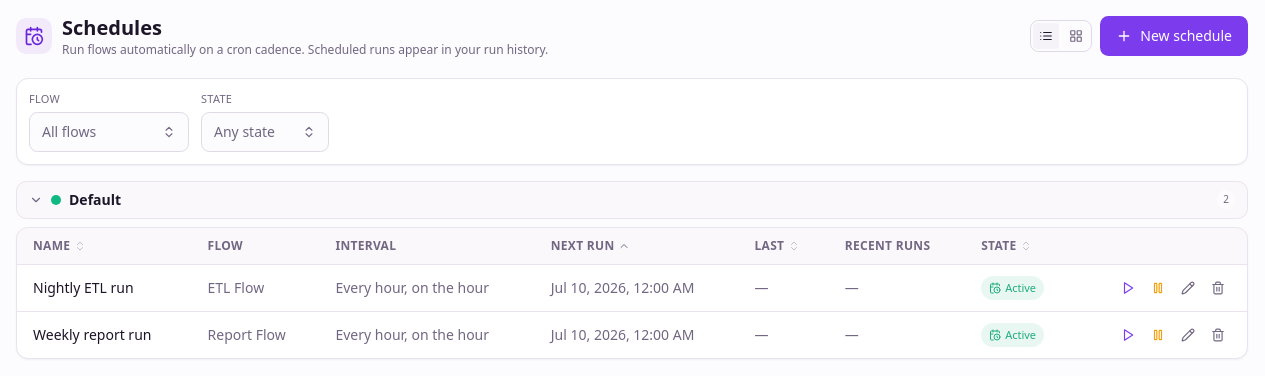
SchedulesPage run-now action › ignores a second click on the same schedule while its own run-now request is still pending
The width and height of the screenshot is (1265, 376).
Expected: the text "Nightly ETL run" is shown, [17, 264, 192, 311]
Click the button titled "Run now" in the row of "Nightly ETL run".
click(1128, 288)  # box [1115, 274, 1141, 300]
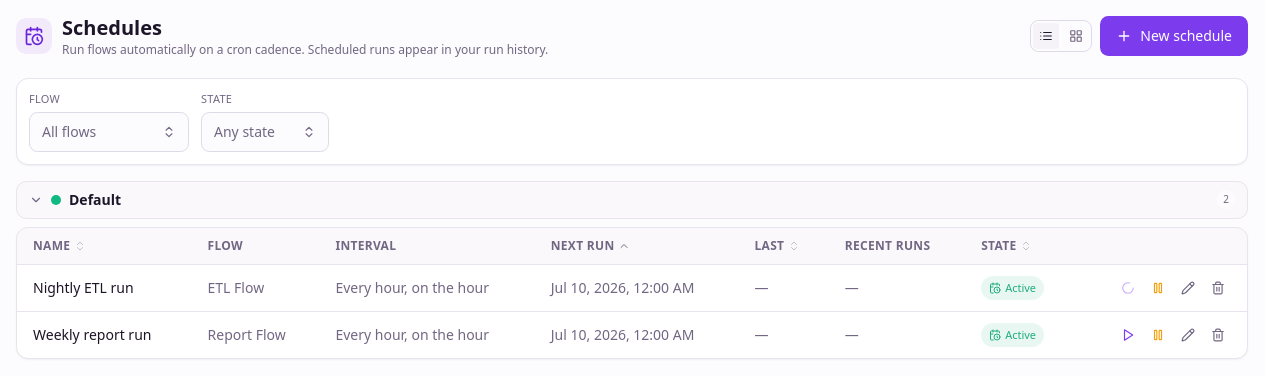
Now the button titled "Run now" in the row of "Nightly ETL run" is disabled
Click the button titled "Run now" in the row of "Nightly ETL run".
click(1128, 288)  # box [1115, 274, 1141, 300]
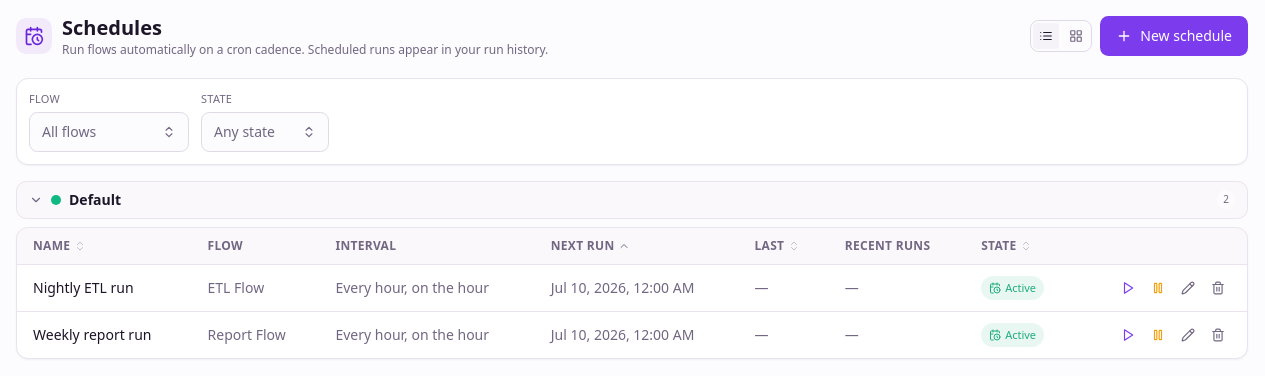
Now the button titled "Run now" in the row of "Nightly ETL run" is enabled, box [1115, 274, 1141, 300]
